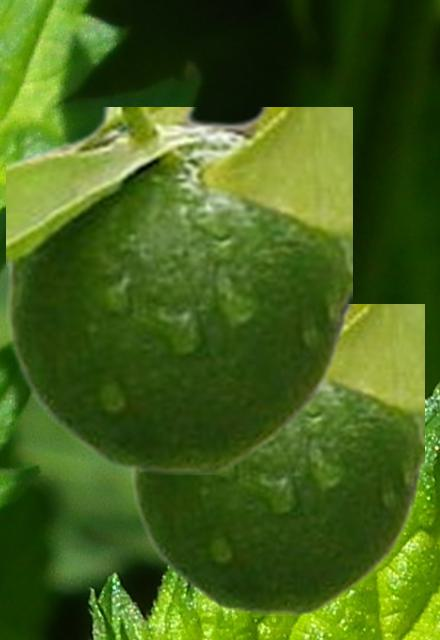dalandan: (6, 107, 351, 473), (131, 304, 423, 614)
